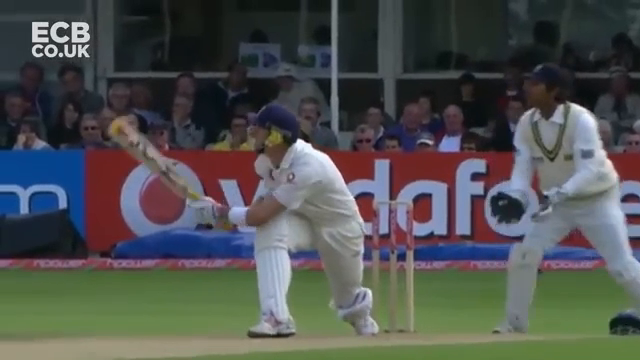Keeper: (491, 62, 640, 336)
batsman: (183, 102, 386, 338)
